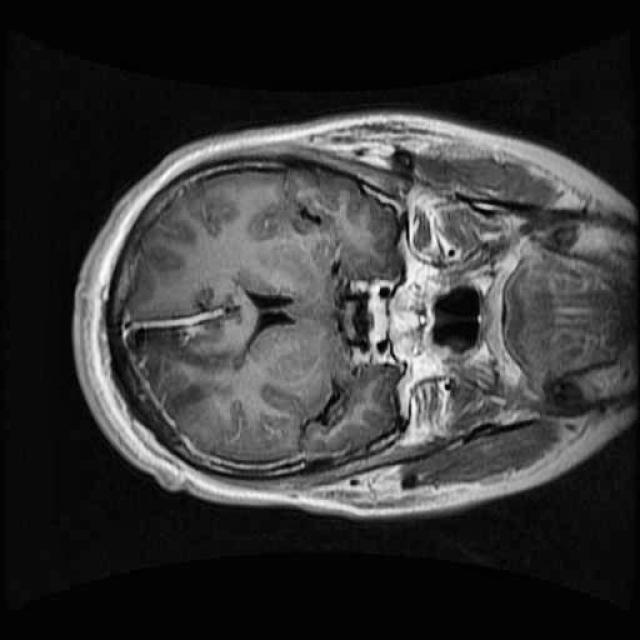Non-Tumor: (108, 282, 251, 391)
